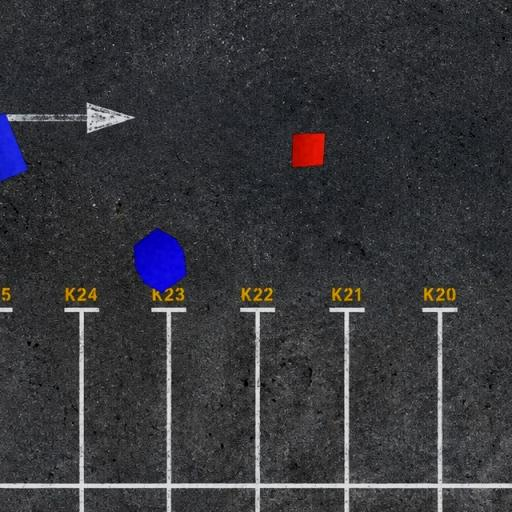BLUE_SQUARE: (0, 112, 29, 194)
RED_SQUARE: (291, 132, 326, 168)
